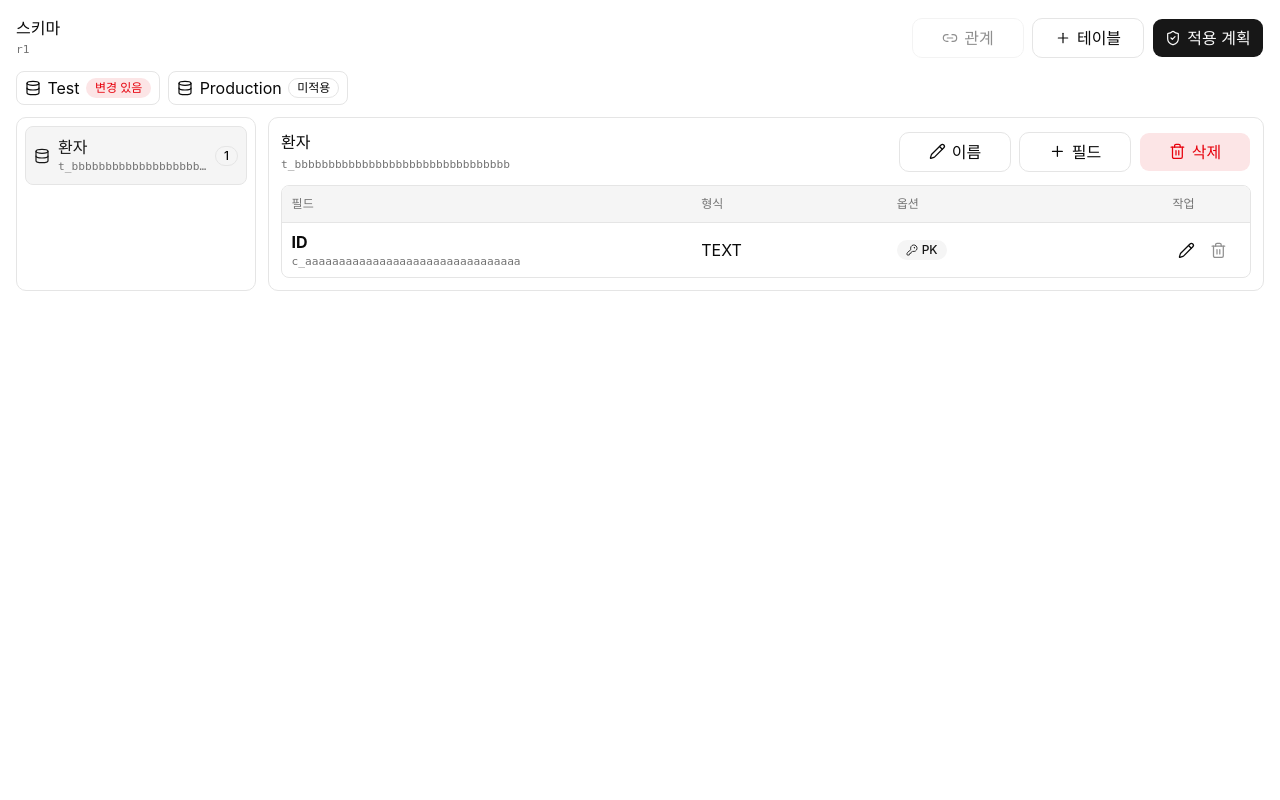
Test: DatabaseDesigner › previews impact and applies the exact server-issued plan after a verified backup
The width and height of the screenshot is (1280, 800).
Expected: the table named "환자 필드" is shown, [281,185,1251,278]
Click the button "적용 계획": (1208, 38) [1152,18,1264,58]
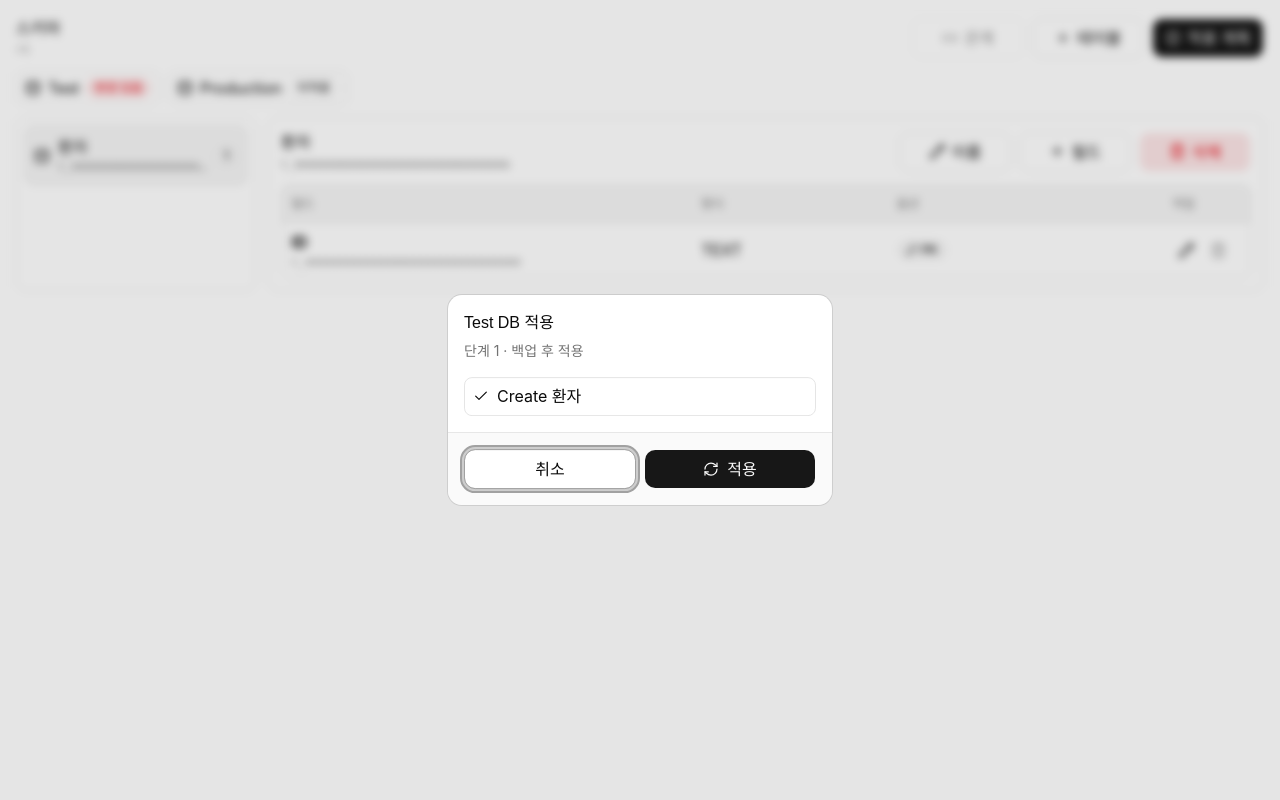
Expected: the text "Create 환자" is shown, [464,377,816,416]
Click the button "적용": (730, 469) [644,449,816,489]
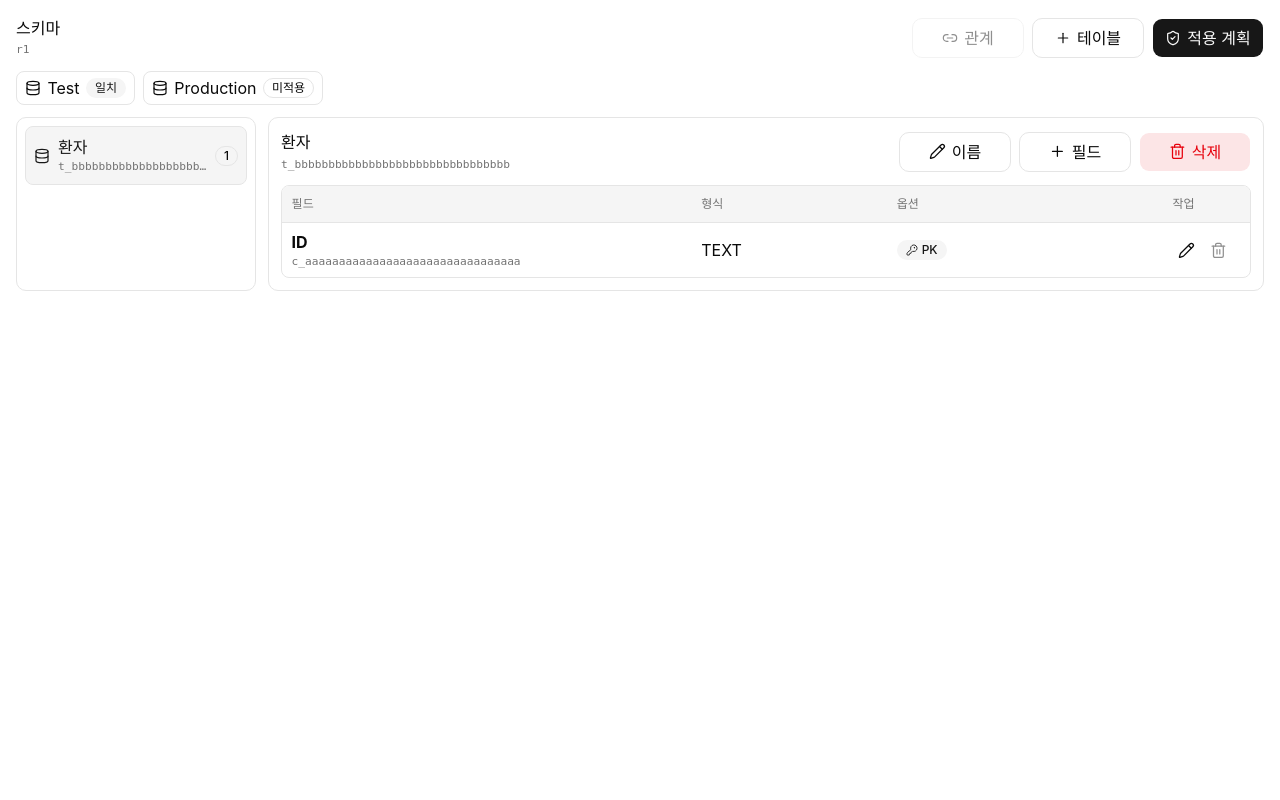
Expected: the text "일치" is shown, [86,78,126,98]
